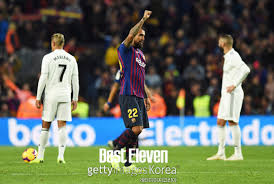barcelona: (107, 11, 153, 175)
realmadrid: (17, 32, 79, 167), (200, 31, 255, 167)
